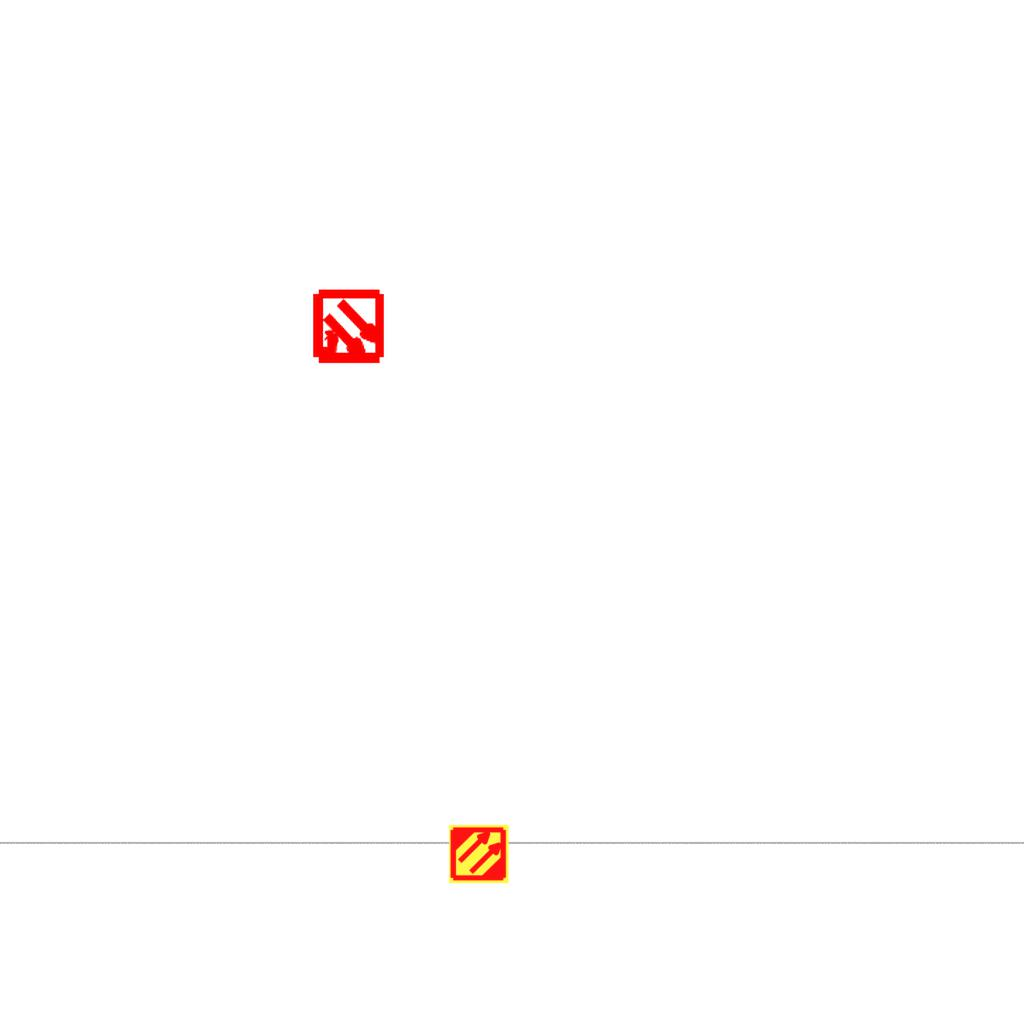ASR_Ansaugrauchmelder: (448, 823, 510, 885)
OT_Multisensormelder_(Kombination_RMO_WMD): (292, 272, 405, 385)
